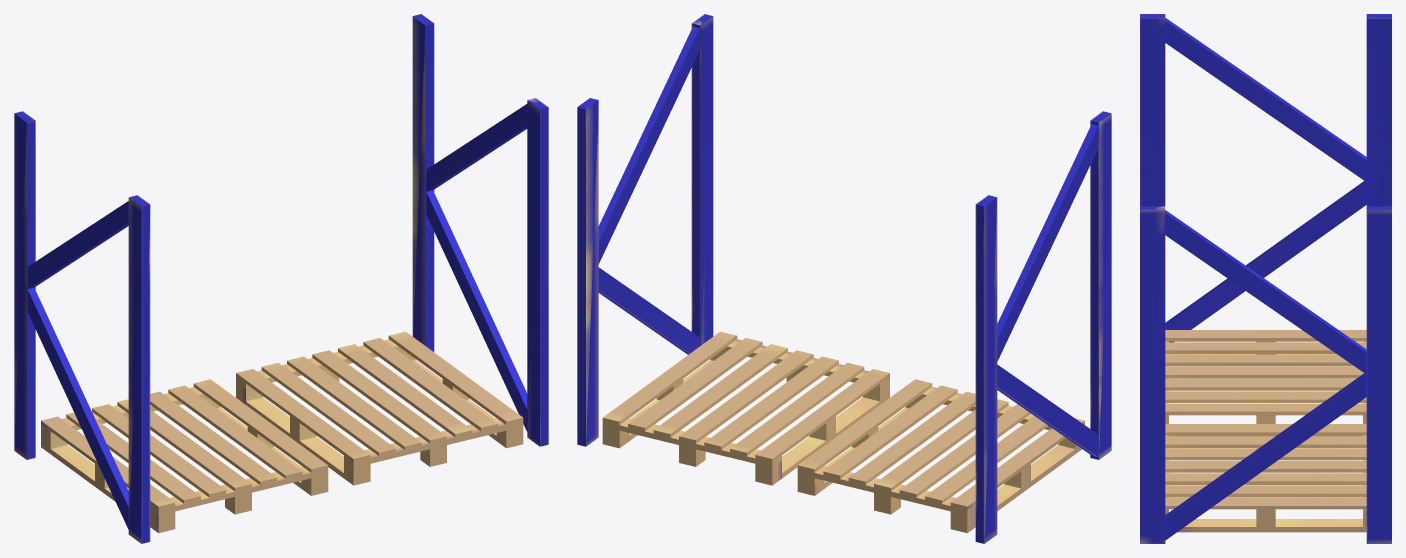
The model's file is Longarina_Separado_2pallets_chão_256.glb.
The picture shows the model from 3 angles, left to right: view 1: azimuth 30°, elevation 25°; view 2: azimuth 150°, elevation 25°; view 3: azimuth 270°, elevation 25°; orthographic projection.
Parts seen in each view (by area): view 1: Cube.002; view 2: Cube.002; view 3: Cube.002.
Part boxes in pixels (bbox=[...]): Cube.002: bbox=[14, 14, 548, 543]; Cube.002: bbox=[577, 14, 1111, 543]; Cube.002: bbox=[1140, 14, 1391, 543].
Size of the model in its own units: 2.4 by 1.9 by 1.3.
Materials: 1 (1 with a texture image).
